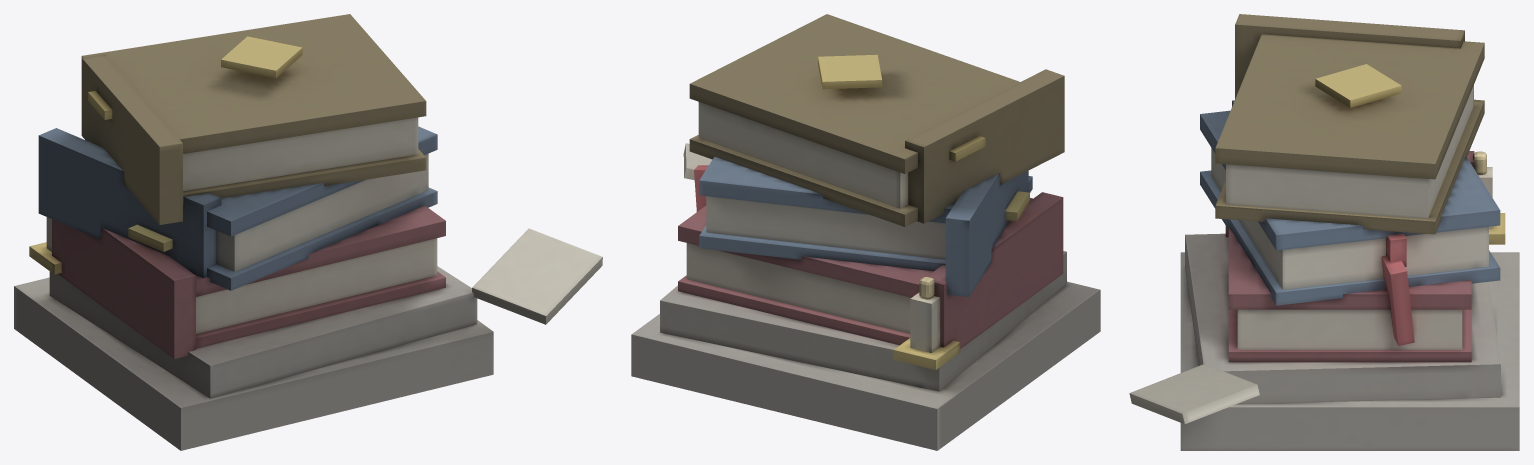
The model's file is tomestack.glb.
3 views of the same model, side by side, from view 1: azimuth 30°, elevation 25°; view 2: azimuth 150°, elevation 25°; view 3: azimuth 270°, elevation 25° (orthographic). The views are drawn at different scales.
Visible parts, largest first — view 1: tomestack; view 2: tomestack; view 3: tomestack.
Boxes of the visible parts, box(x1,y1,x2,y2) form: tomestack: box(14, 14, 602, 450); tomestack: box(631, 14, 1100, 450); tomestack: box(1129, 14, 1519, 450).
Bounding box in the file's own units: 3.56 × 2.32 × 2.76.
8 materials, 8 textured.
